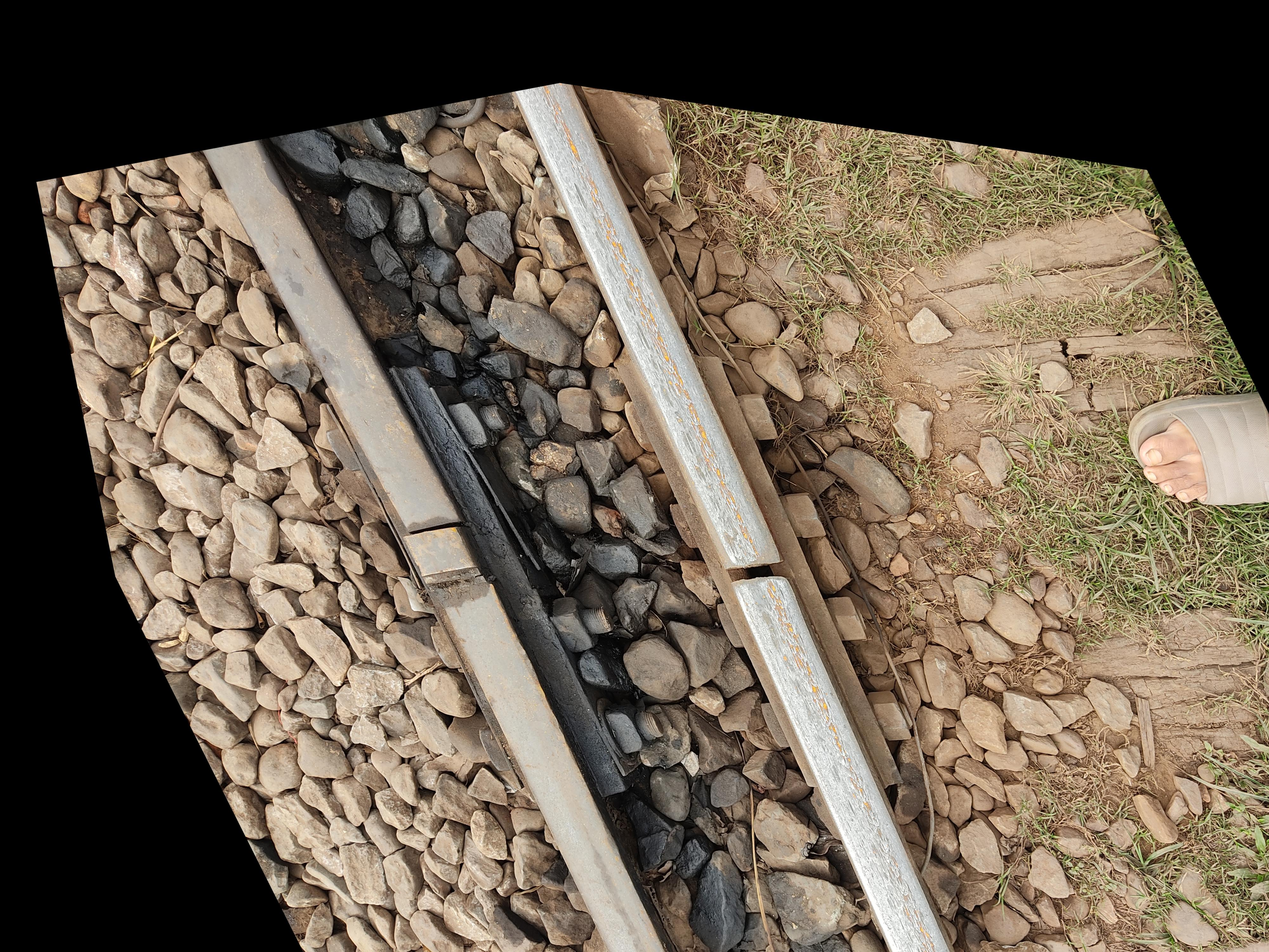person: (221, 610, 444, 819), (568, 663, 749, 838)
